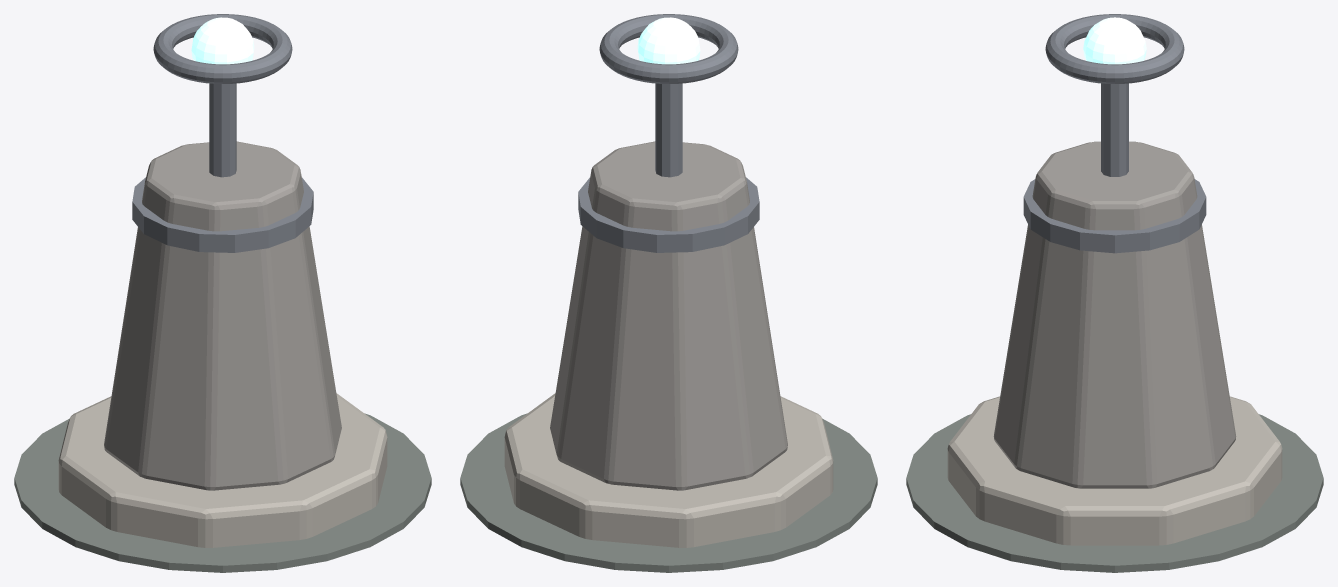
The model's file is beacon_tower.glb.
The picture shows the model from 3 angles, left to right: view 1: azimuth 30°, elevation 25°; view 2: azimuth 150°, elevation 25°; view 3: azimuth 270°, elevation 25°; orthographic projection.
Visible parts, largest first — view 1: BeaconBody, BeaconBase, BeaconGround, BeaconDish, BeaconBand, BeaconMast, BeaconOrb; view 2: BeaconBody, BeaconBase, BeaconGround, BeaconDish, BeaconBand, BeaconMast, BeaconOrb; view 3: BeaconBody, BeaconBase, BeaconGround, BeaconDish, BeaconBand, BeaconMast, BeaconOrb.
Boxes of the visible parts, <box> form: BeaconBody: <box>104,141,341,490</box>; BeaconBase: <box>58,393,387,547</box>; BeaconGround: <box>14,413,431,572</box>; BeaconDish: <box>153,14,292,83</box>; BeaconBand: <box>132,177,313,252</box>; BeaconMast: <box>209,83,236,177</box>; BeaconOrb: <box>191,17,254,64</box>; BeaconBody: <box>550,141,787,490</box>; BeaconBase: <box>504,393,833,547</box>; BeaconGround: <box>460,413,877,572</box>; BeaconDish: <box>599,14,738,83</box>; BeaconBand: <box>578,177,759,252</box>; BeaconMast: <box>655,83,682,177</box>; BeaconOrb: <box>637,17,700,64</box>; BeaconBody: <box>993,141,1236,488</box>; BeaconBase: <box>947,396,1282,545</box>; BeaconGround: <box>906,414,1323,572</box>; BeaconDish: <box>1045,14,1184,83</box>; BeaconBand: <box>1023,179,1206,253</box>; BeaconMast: <box>1101,83,1128,176</box>; BeaconOrb: <box>1083,17,1146,64</box>.
Size of the model in its own units: 2.1 by 2.58 by 2.1.
